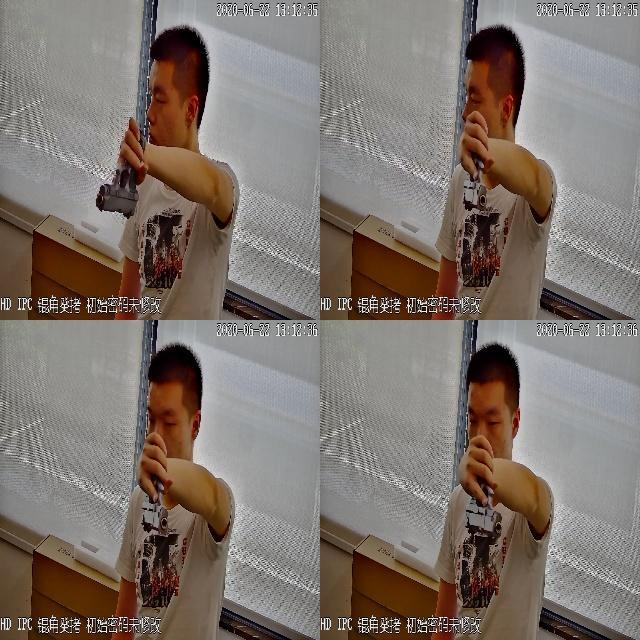gun-knife-thesis - v11 Yolov5 augmented: (91, 125, 149, 223), (463, 435, 501, 538), (137, 432, 170, 536), (458, 108, 488, 211)
